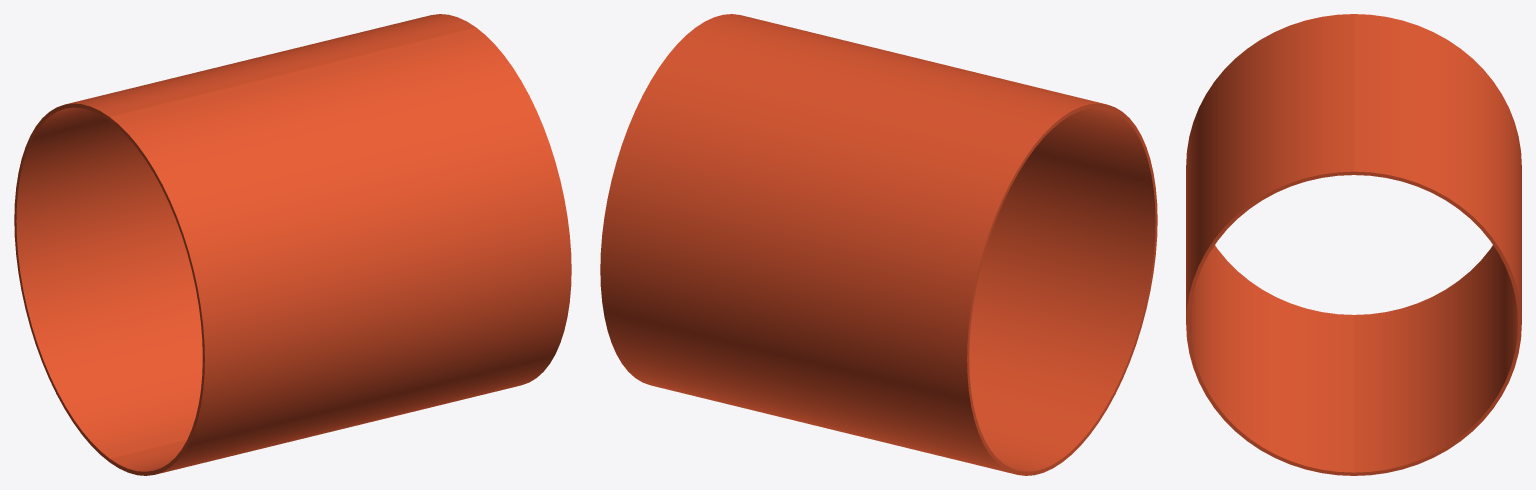
File: bauxite_grinding_mill_pressure.glb
3 views of the same model, side by side, from view 1: azimuth 30°, elevation 25°; view 2: azimuth 150°, elevation 25°; view 3: azimuth 270°, elevation 25° (orthographic). The views are drawn at different scales.
Visible parts, largest first — view 1: pressure__front, pressure__back; view 2: pressure__back, pressure__front; view 3: pressure__back, pressure__front.
Part boxes in pixels (box(x1,y1,x2,y2)): pressure__front: box(109, 27, 571, 475); pressure__back: box(14, 14, 475, 461); pressure__back: box(600, 27, 1062, 475); pressure__front: box(696, 14, 1157, 461); pressure__back: box(1354, 14, 1521, 475); pressure__front: box(1186, 14, 1353, 475).
Size of the model in its own units: 2 by 1.8 by 1.8.
